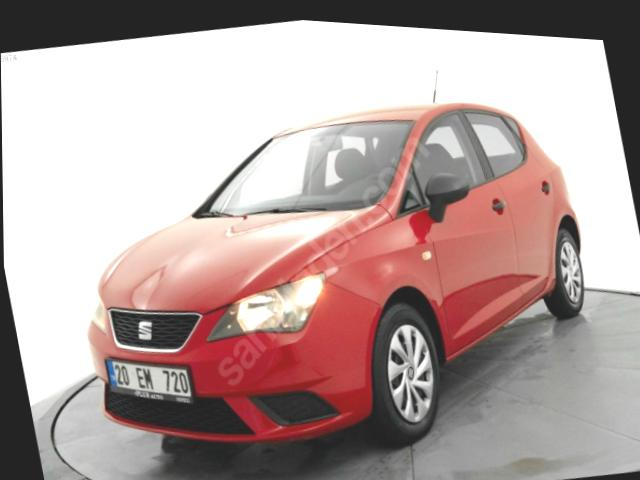plaka: (106, 359, 193, 403)
